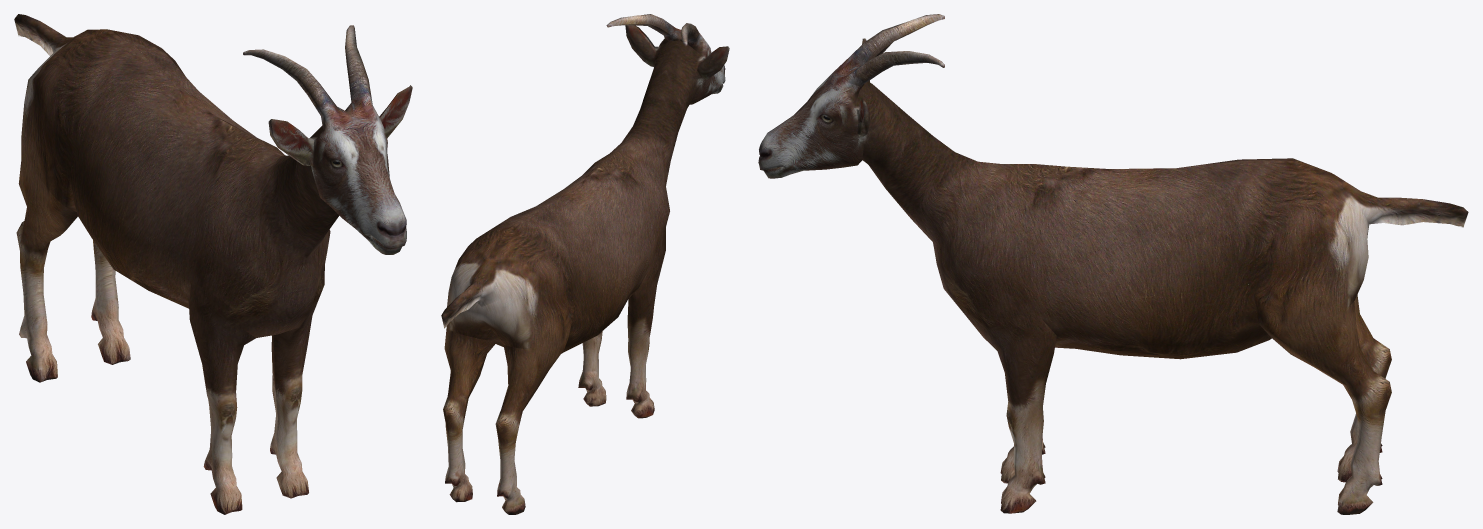
Rendered from Goat.fbx.
3 renders of one model, left to right at view 1: azimuth 30°, elevation 25°; view 2: azimuth 150°, elevation 25°; view 3: azimuth 270°, elevation 25°, orthographic. The views are drawn at different scales.
Parts seen in each view (by area): view 1: Goat; view 2: Goat; view 3: Goat.
Boxes of the visible parts, x1,y1,x2,y2 form: Goat: (14,14,412,514); Goat: (441,14,729,514); Goat: (758,14,1468,514).
Size of the model in its own units: 0.7287 by 2.4 by 3.36.
